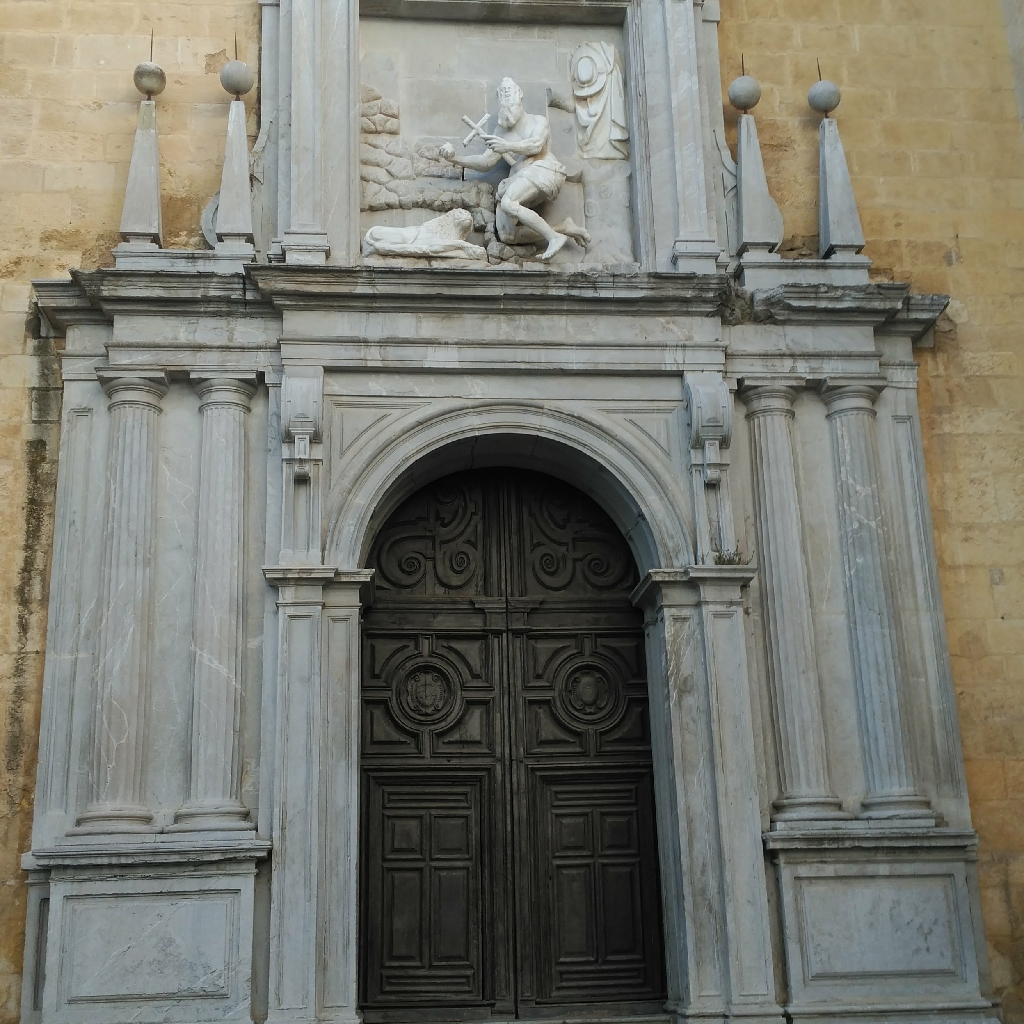arco-medio-punto: (343, 412, 680, 640)
vano-adintelado: (331, 1, 661, 291)
